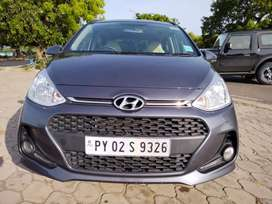PY02S9326: (85, 135, 170, 156)
